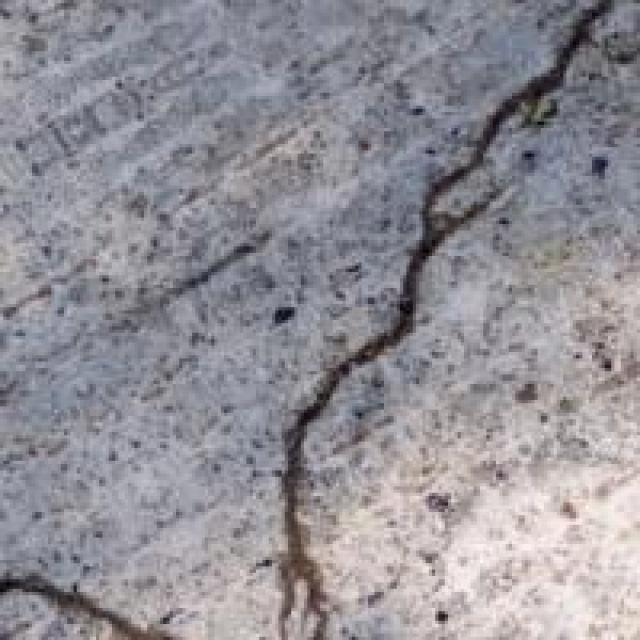crack: (244, 0, 638, 640), (0, 558, 200, 640)
